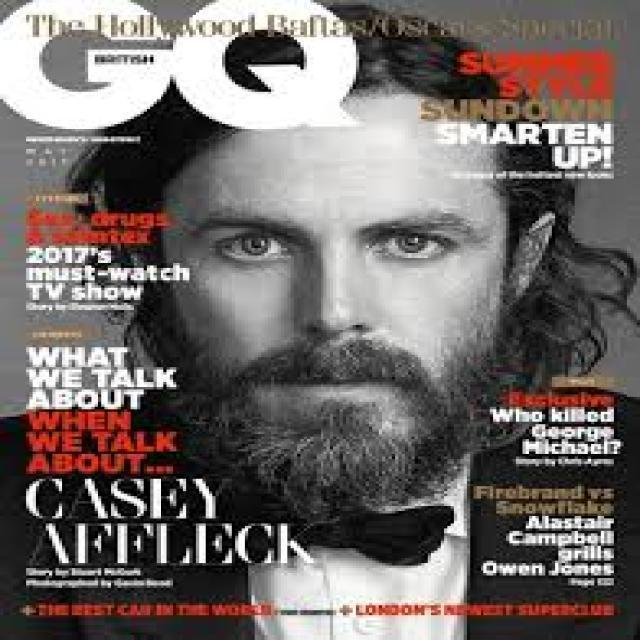cardboard: (1, 1, 638, 637)
